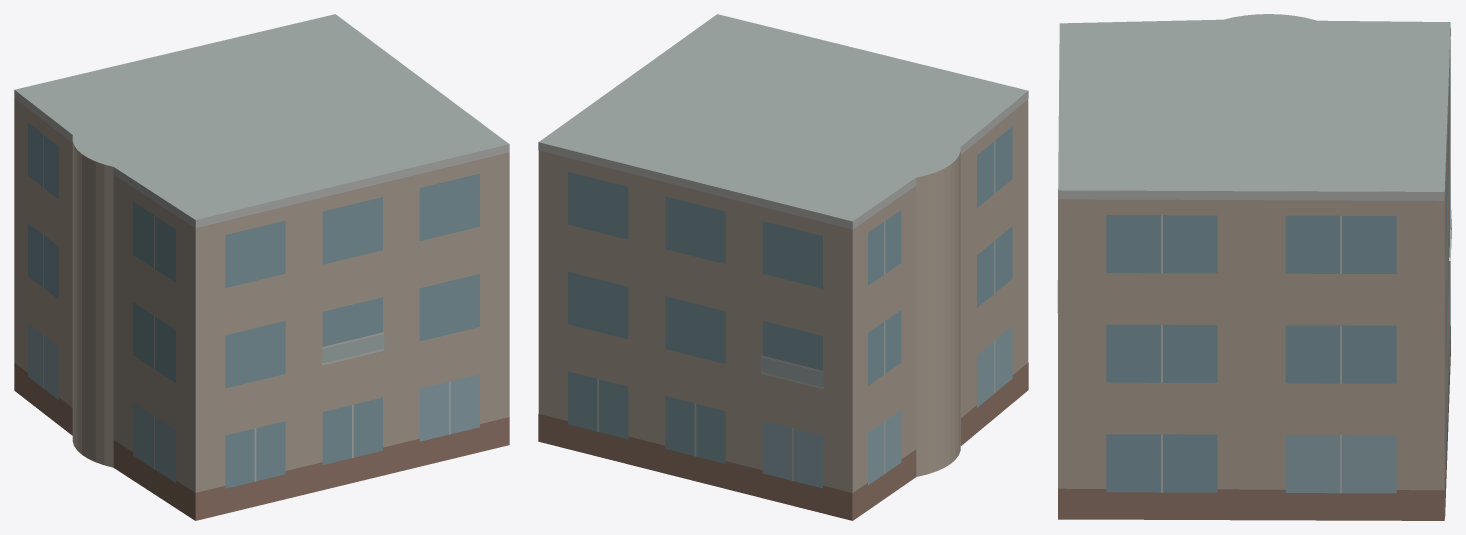
File: survey-upis-32573043.glb
The picture shows the model from 3 angles, left to right: view 1: azimuth 30°, elevation 25°; view 2: azimuth 150°, elevation 25°; view 3: azimuth 270°, elevation 25°; orthographic projection. The views are drawn at different scales.
Visible parts, largest first — view 1: survey-upis-32573043.tmp; view 2: survey-upis-32573043.tmp; view 3: survey-upis-32573043.tmp.
Boxes of the visible parts, x1,y1,x2,y2 form: survey-upis-32573043.tmp: (14,14,509,520); survey-upis-32573043.tmp: (538,14,1028,520); survey-upis-32573043.tmp: (1057,14,1451,520).
Bounding box in the file's own units: 10.45 × 9 × 9.79.
